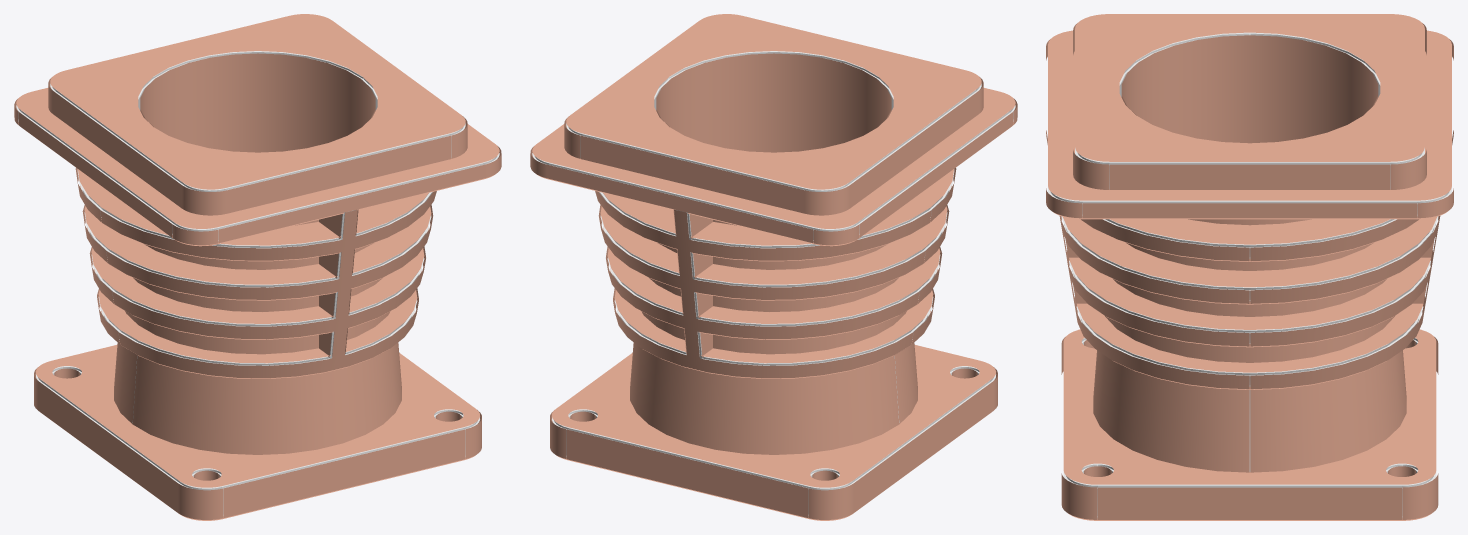
The model's file is cabezal.glb.
The picture shows the model from 3 angles, left to right: view 1: azimuth 30°, elevation 25°; view 2: azimuth 150°, elevation 25°; view 3: azimuth 270°, elevation 25°; orthographic projection. The views are drawn at different scales.
Parts seen in each view (by area): view 1: CABEZAL; view 2: CABEZAL; view 3: CABEZAL.
Boxes of the visible parts, <box> form: CABEZAL: <box>14,14,501,520</box>; CABEZAL: <box>530,14,1017,520</box>; CABEZAL: <box>1046,14,1453,520</box>.
Bounding box in the file's own units: 0.1012 × 0.097 × 0.1012.
